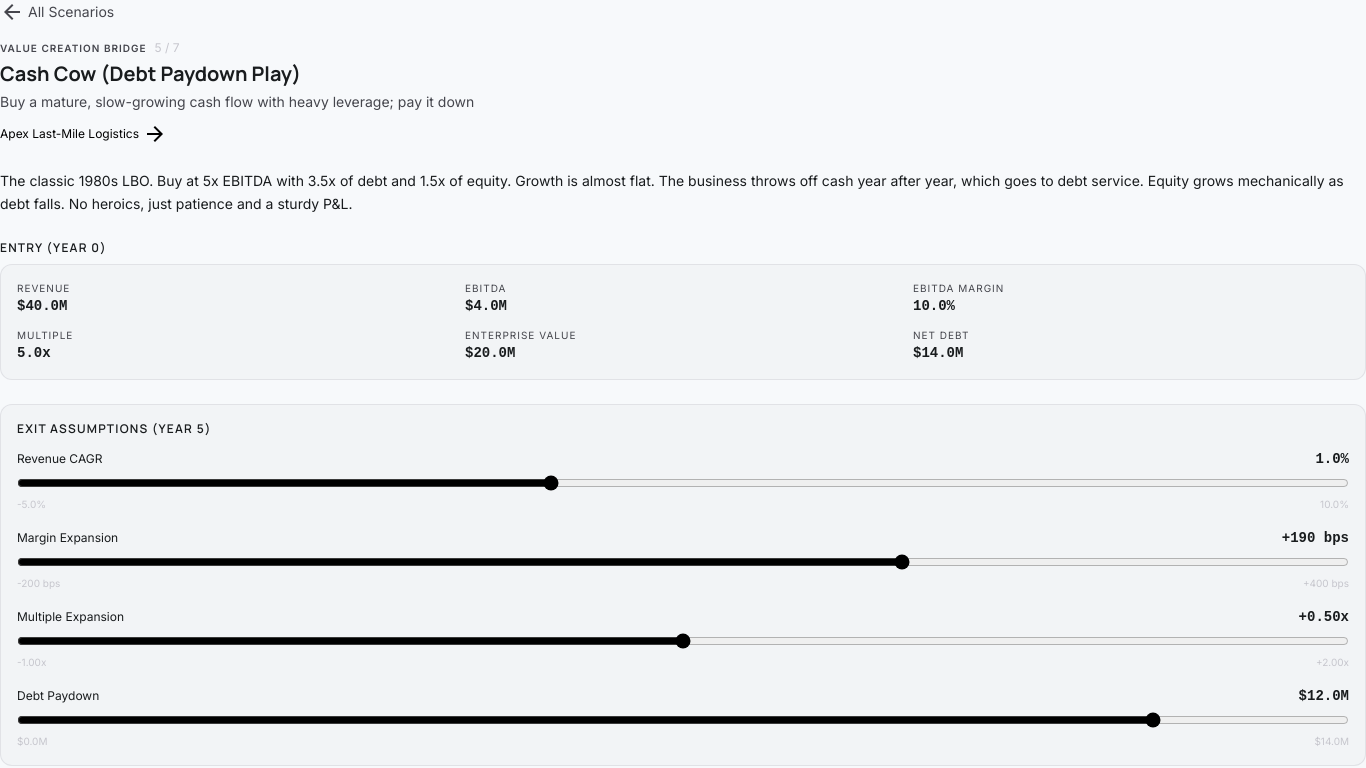
Test: BridgeCalculator › renders Value Destroyed panel instead of waterfall when MOIC goes negative
This screenshot has width=1366, height=768.
Set the slider named "Revenue CAGR" to "-5" at (25, 482), box [17,474,1349,490]
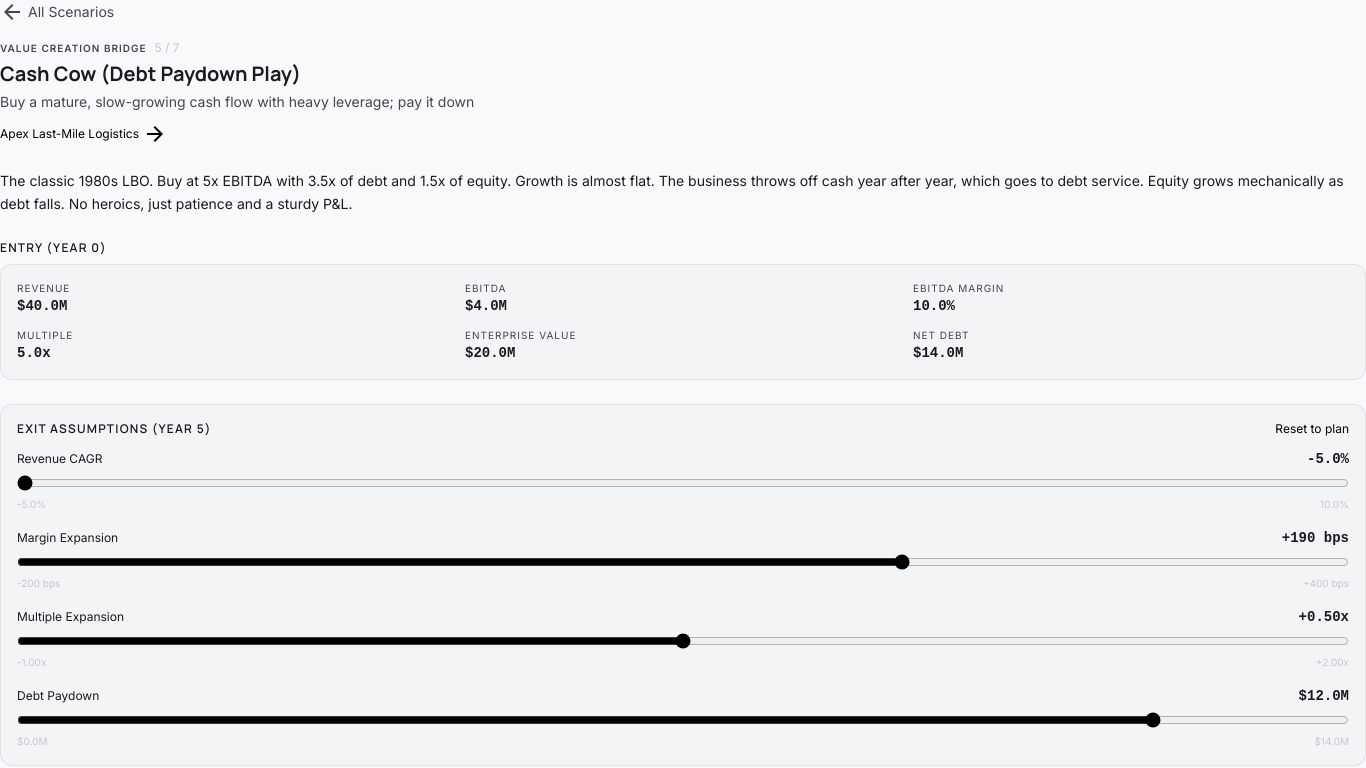
Set the slider named "Margin Expansion" to "-200" at (25, 562), box [17,554,1349,570]
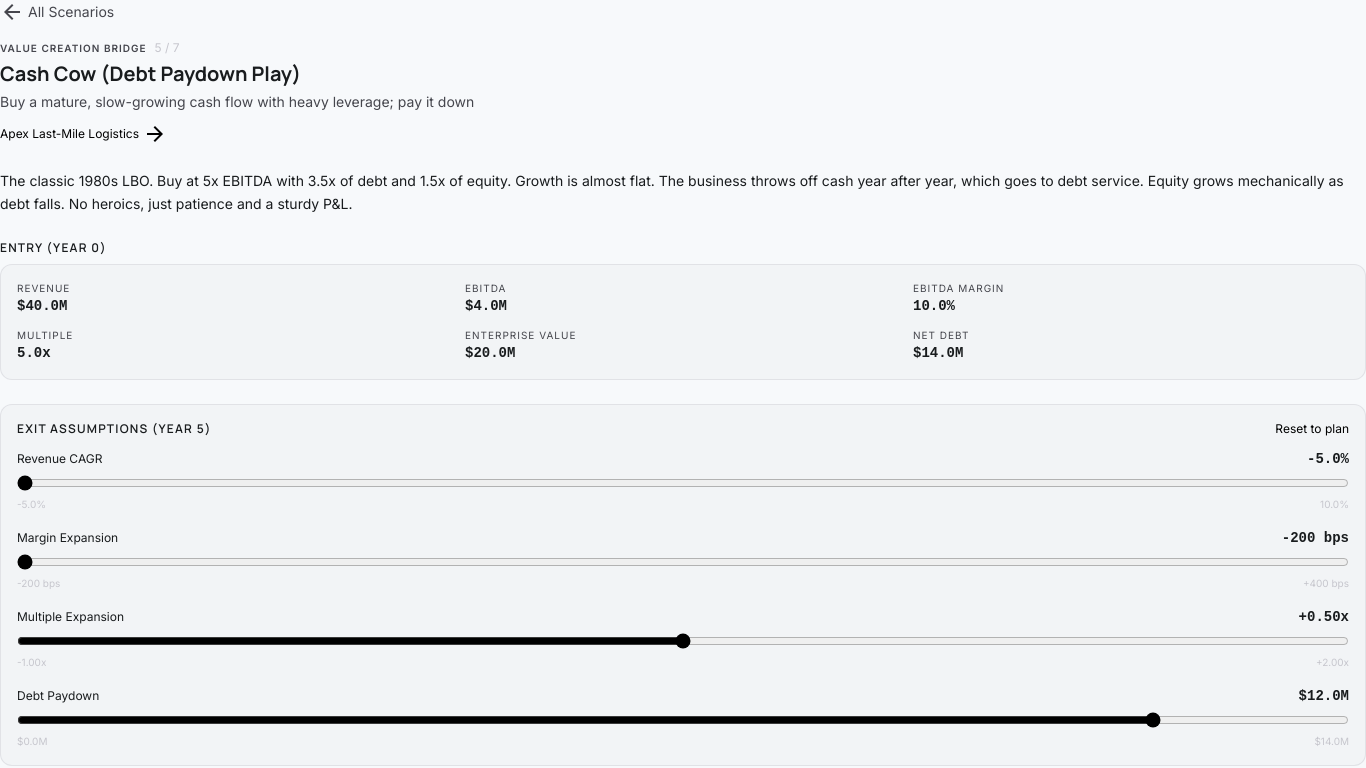
Set the slider named "Multiple Expansion" to "-1" at (25, 640), box [17,632,1349,648]
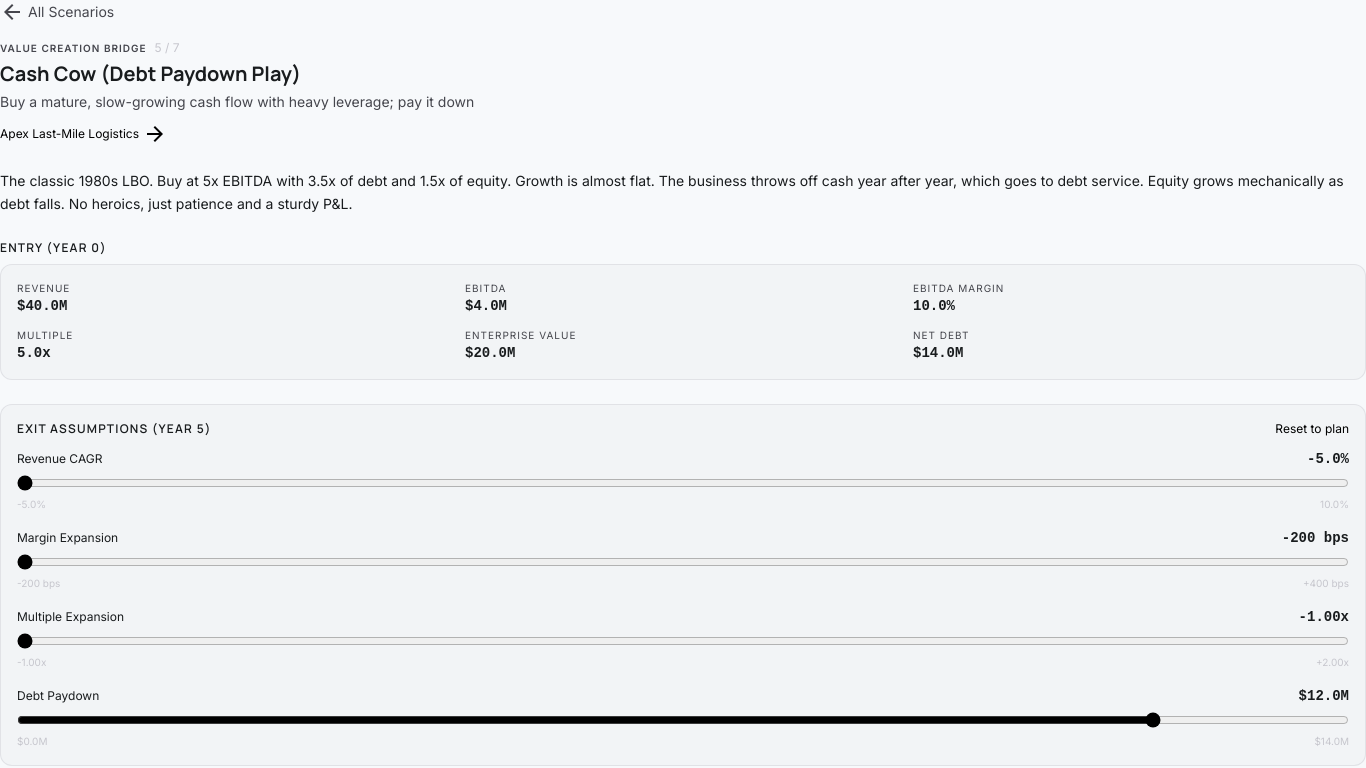
Set the slider named "Debt Paydown" to "0" at (25, 720), box [17,712,1349,728]
(page scrolled)
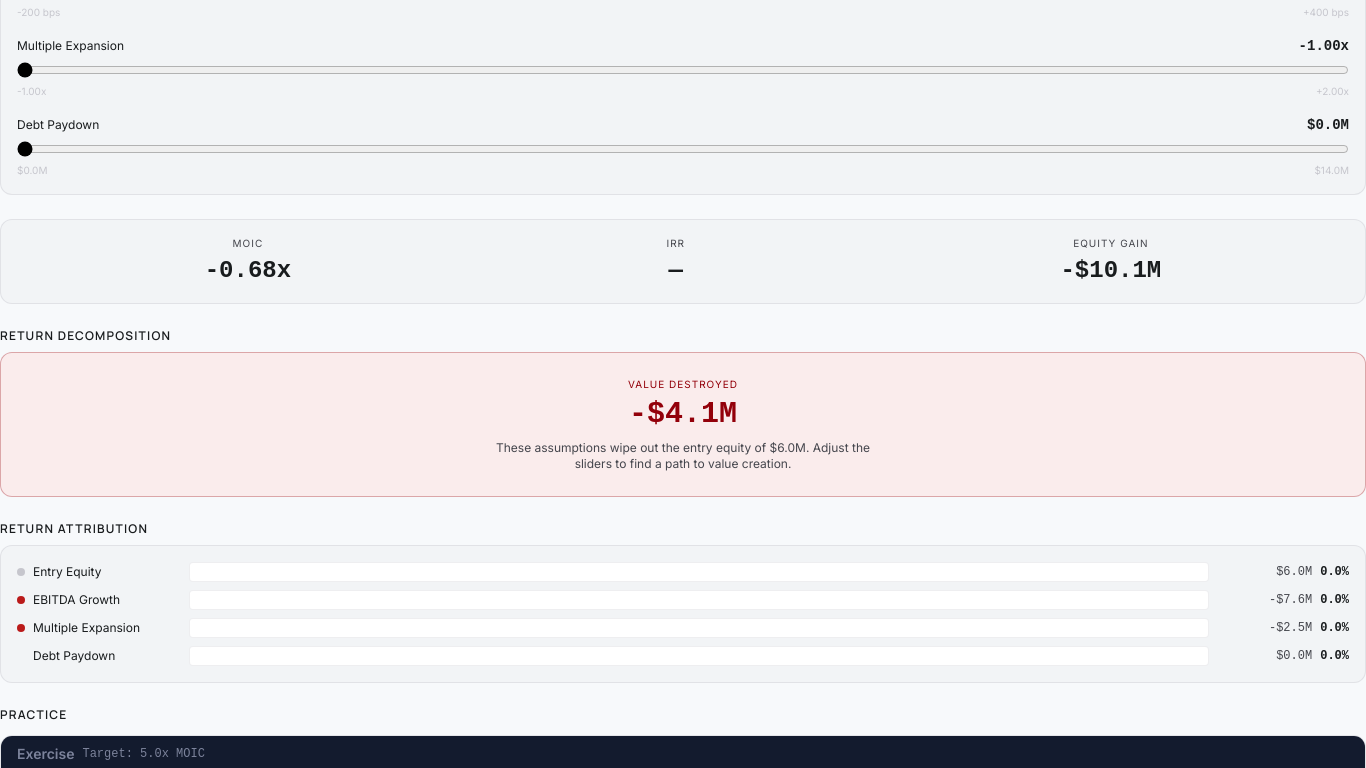
Expected: the text "Value Destroyed" is shown, [628,378,738,390]
